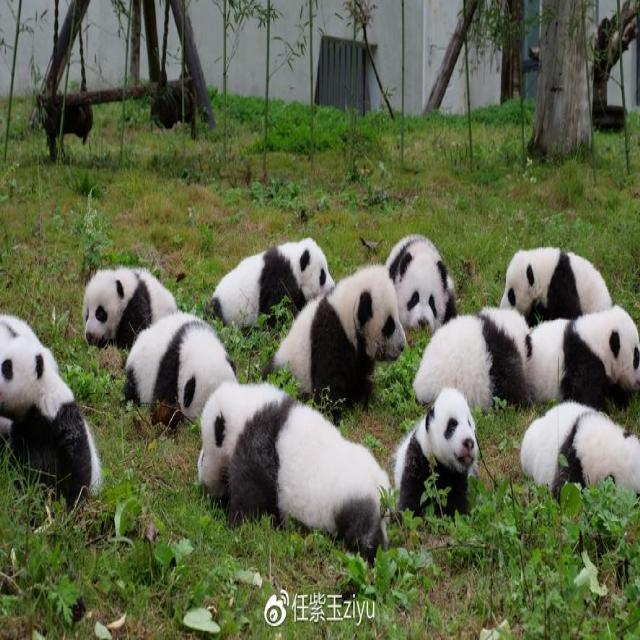panda: (0, 225, 640, 561)
